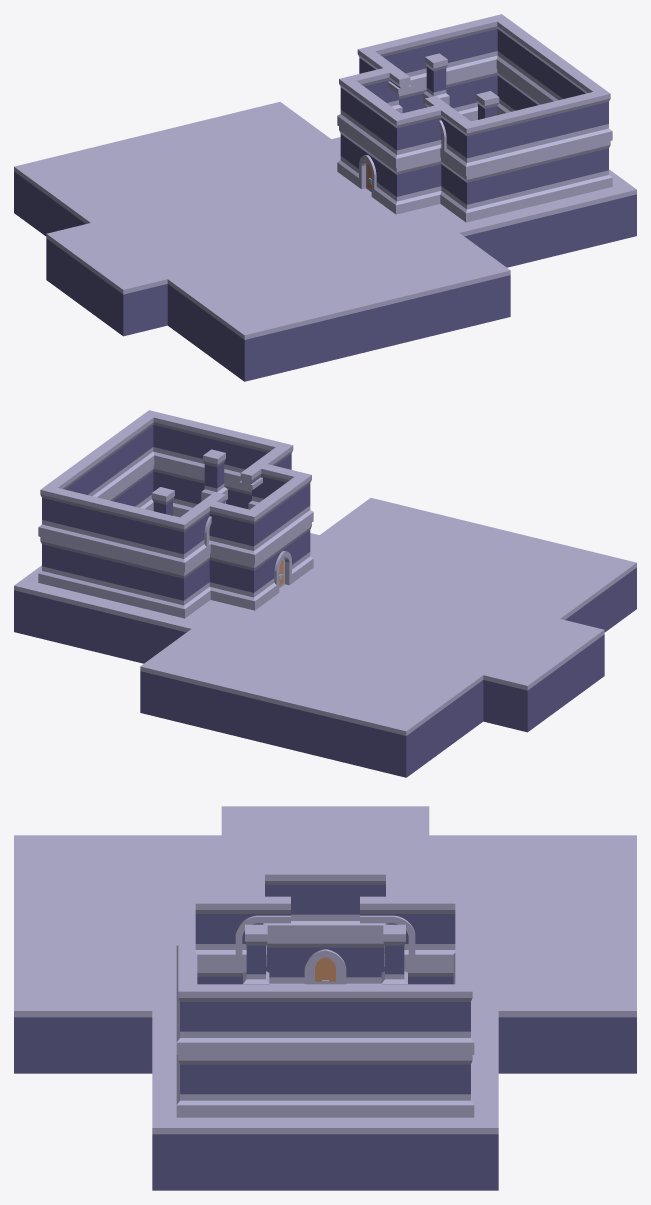
Rendered from PrototypeRoom0.1.glb.
3 views of the same model, one above another, from view 1: azimuth 30°, elevation 25°; view 2: azimuth 150°, elevation 25°; view 3: azimuth 270°, elevation 25° (orthographic). The views are drawn at different scales.
Parts seen in each view (by area): view 1: floor (×59), wall (×13), wall_corner (×14), column (×2), wall_gate, wall_gate_side; view 2: floor (×59), wall (×13), wall_corner (×14), column (×2), wall_gate; view 3: floor (×55), wall (×11), wall_corner (×12), wall_gate_side (×2), column (×2), wall_gate, door.
Boxes of the visible parts, box(x1,y1,x2,y2) form: floor (×59): box(14, 102, 636, 381); wall (×13): box(354, 21, 594, 215); wall_corner (×14): box(337, 14, 612, 222); column (×2): box(423, 53, 499, 119); wall_gate: box(354, 138, 381, 201); wall_gate_side: box(425, 96, 461, 162); floor (×59): box(14, 498, 636, 777); wall (×13): box(56, 417, 296, 611); wall_corner (×14): box(38, 410, 313, 618); column (×2): box(151, 449, 227, 515); wall_gate: box(269, 534, 296, 597); floor (×55): box(14, 806, 636, 1190); wall (×11): box(176, 867, 474, 1117); wall_corner (×12): box(176, 867, 474, 1117); wall_gate_side (×2): box(221, 896, 429, 967); column (×2): box(243, 924, 407, 984); wall_gate: box(291, 938, 359, 984); door: box(311, 957, 339, 984).
Size of the model in its own units: 11 by 3 by 9.
